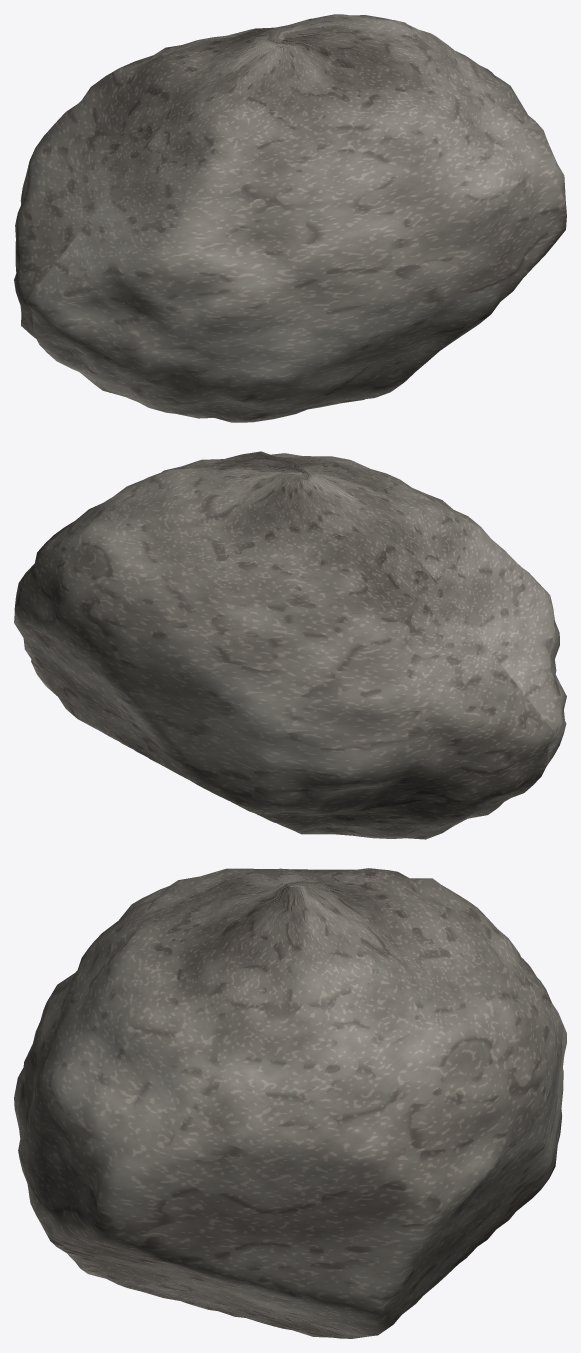
File: PZ_R02_Angular_Fieldstone_Granite.glb
3 views of the same model, one above another, from view 1: azimuth 30°, elevation 25°; view 2: azimuth 150°, elevation 25°; view 3: azimuth 270°, elevation 25° (orthographic). The views are drawn at different scales.
Parts seen in each view (by area): view 1: RENDER_R02_Angular_Fieldstone_Granite; view 2: RENDER_R02_Angular_Fieldstone_Granite; view 3: RENDER_R02_Angular_Fieldstone_Granite.
Boxes of the visible parts, x1,y1,x2,y2 form: RENDER_R02_Angular_Fieldstone_Granite: [14, 14, 566, 422]; RENDER_R02_Angular_Fieldstone_Granite: [14, 451, 566, 839]; RENDER_R02_Angular_Fieldstone_Granite: [14, 868, 566, 1338].
Bounding box in the file's own units: 0.55 × 0.34 × 0.43.
1 material, 1 textured.
